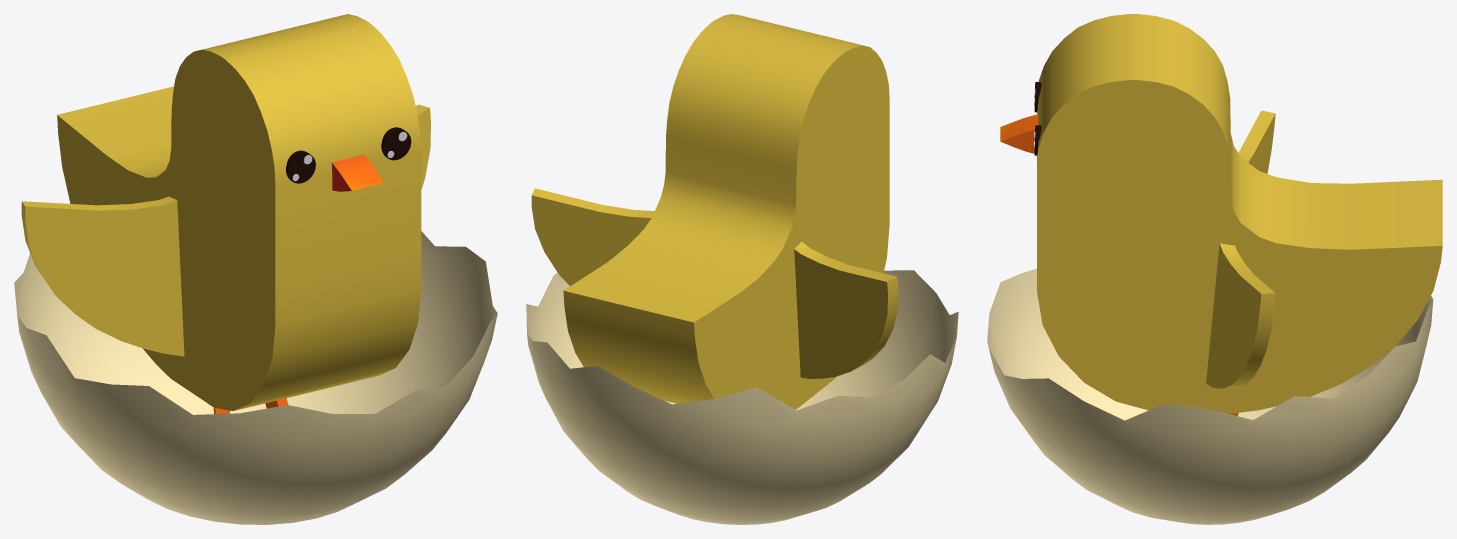
The model's file is Hatching_Chick.gltf.
3 views of the same model, side by side, from view 1: azimuth 30°, elevation 25°; view 2: azimuth 150°, elevation 25°; view 3: azimuth 270°, elevation 25° (orthographic). The views are drawn at different scales.
Parts seen in each view (by area): view 1: Cube.6279, Sphere.383, Circle.1943, Cube.6280; view 2: Cube.6279, Sphere.383, Circle.1943; view 3: Cube.6279, Sphere.383, Circle.1943, Cube.6280.
Boxes of the visible parts, x1=… form: Cube.6279: x1=57, y1=14, x2=421, y2=410; Sphere.383: x1=14, y1=231, x2=497, y2=524; Circle.1943: x1=21, y1=104, x2=430, y2=356; Cube.6280: x1=331, y1=155, x2=383, y2=191; Cube.6279: x1=563, y1=14, x2=889, y2=409; Sphere.383: x1=526, y1=270, x2=958, y2=524; Circle.1943: x1=531, y1=188, x2=898, y2=378; Cube.6279: x1=1037, y1=14, x2=1442, y2=413; Sphere.383: x1=987, y1=269, x2=1433, y2=524; Circle.1943: x1=1034, y1=82, x2=1275, y2=388; Cube.6280: x1=1000, y1=114, x2=1037, y2=153.
Size of the model in its own units: 1.68 by 1.88 by 1.7.
Materials: 5 (2 with a texture image).
